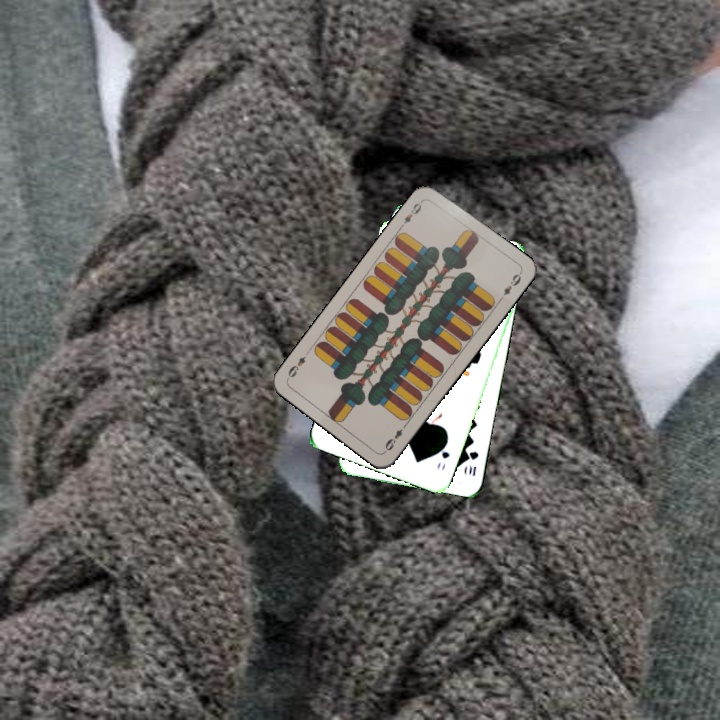E9: (397, 195, 427, 230), (381, 419, 410, 453)
G10: (465, 447, 481, 478)
GO: (433, 437, 452, 473)
